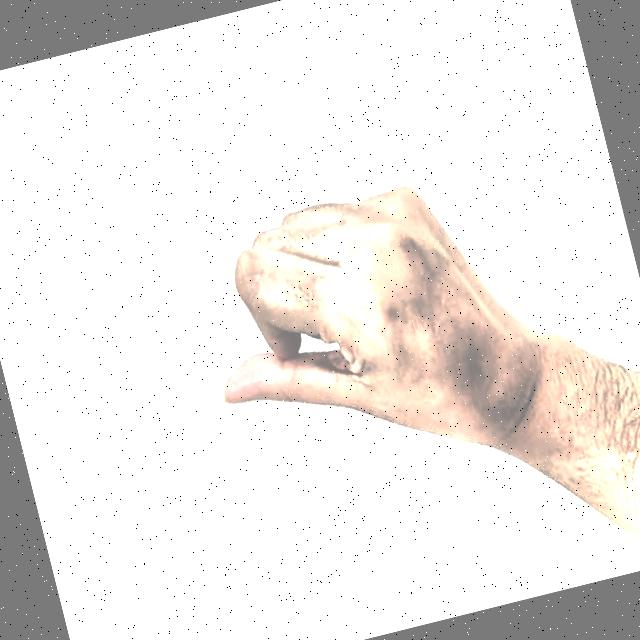Ay: (158, 117, 530, 543)
